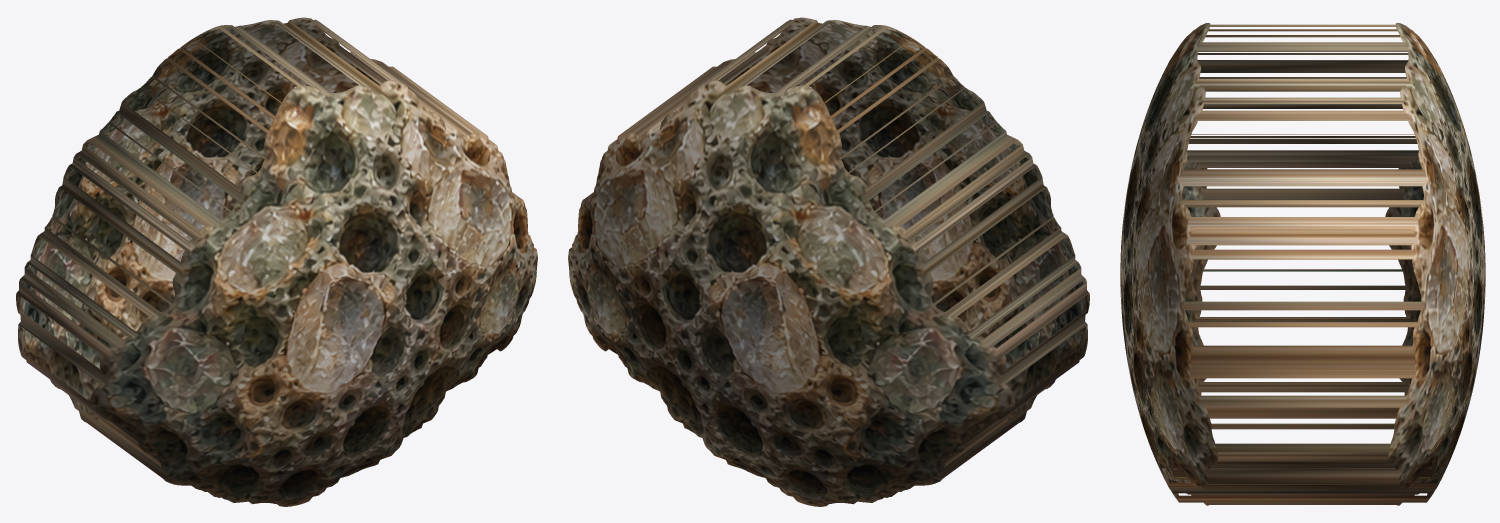
3 views of the same model, side by side, from view 1: azimuth 30°, elevation 25°; view 2: azimuth 150°, elevation 25°; view 3: azimuth 270°, elevation 25° (orthographic). The views are drawn at different scales.
Visible parts, largest first — view 1: matter:5; view 2: matter:5; view 3: matter:5.
Boxes of the visible parts, x1,y1,x2,y2 form: matter:5: (16, 17, 537, 506); matter:5: (568, 17, 1089, 506); matter:5: (1120, 23, 1485, 505).
Size of the model in its own units: 1.06 by 0.9545 by 0.66.
Materials: 1 (1 with a texture image).
